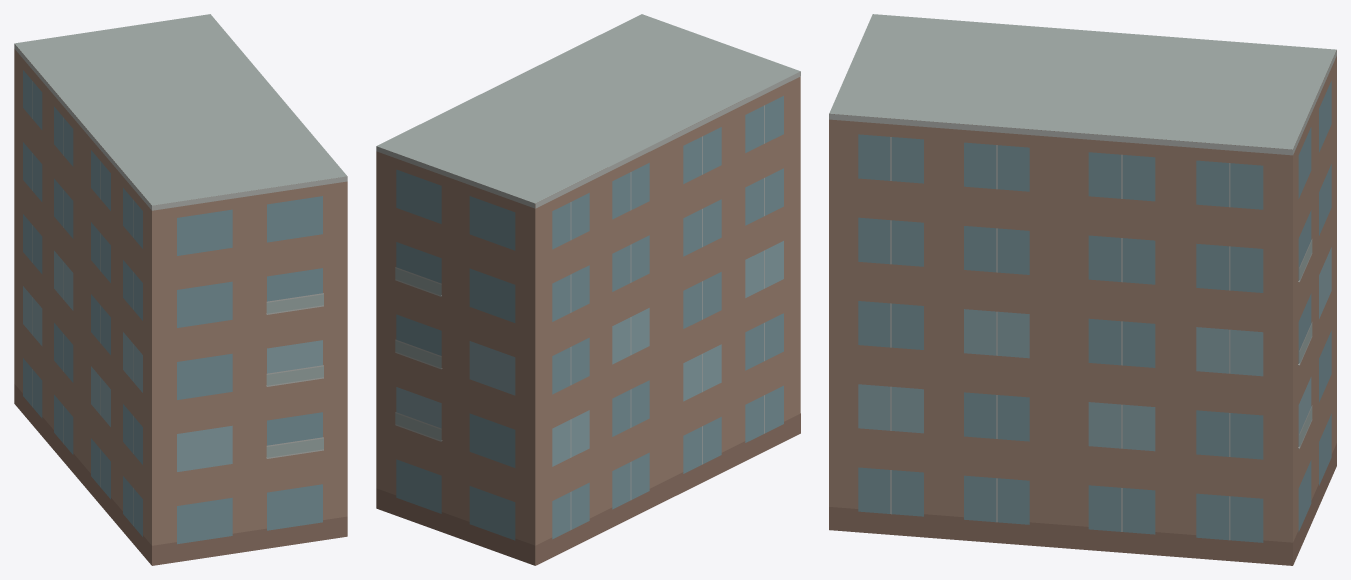
Rendered from survey-upis-32588584.glb.
The picture shows the model from 3 angles, left to right: view 1: azimuth 30°, elevation 25°; view 2: azimuth 150°, elevation 25°; view 3: azimuth 270°, elevation 25°; orthographic projection. The views are drawn at different scales.
Parts seen in each view (by area): view 1: survey-upis-32588584.tmp; view 2: survey-upis-32588584.tmp; view 3: survey-upis-32588584.tmp.
Part boxes in pixels (left/top/right/bottom): survey-upis-32588584.tmp: left=14, top=14, right=347, bottom=565; survey-upis-32588584.tmp: left=376, top=14, right=800, bottom=565; survey-upis-32588584.tmp: left=829, top=14, right=1336, bottom=565.
Size of the model in its own units: 12.09 by 17.3 by 19.13.
